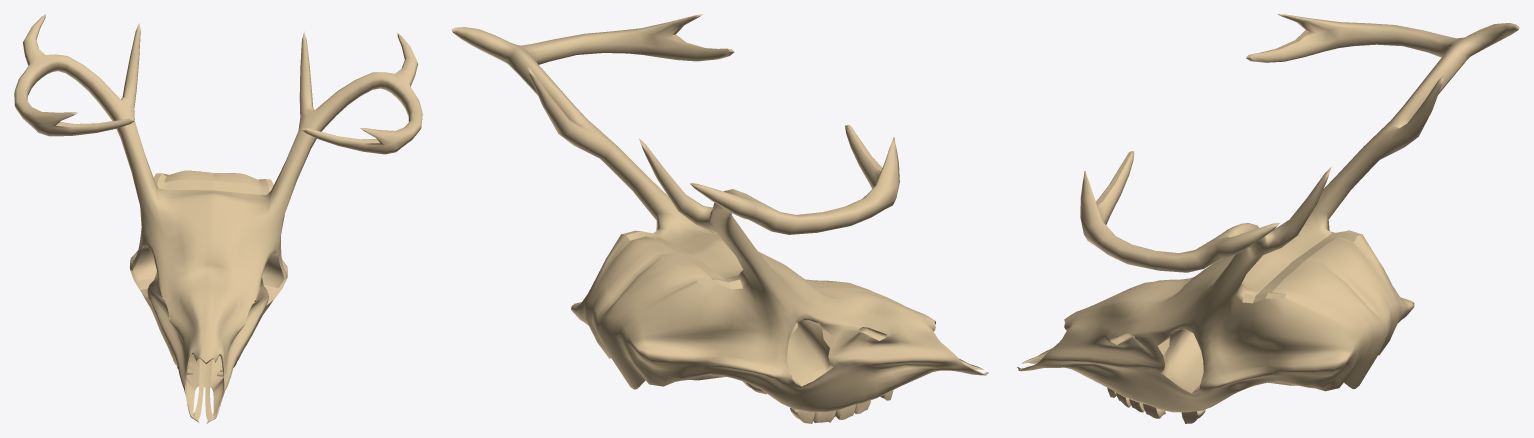
Rendered from Deer.fbx.
3 renders of one model, left to right at view 1: azimuth 30°, elevation 25°; view 2: azimuth 150°, elevation 25°; view 3: azimuth 270°, elevation 25°, orthographic. The views are drawn at different scales.
Parts seen in each view (by area): view 1: Deer_Skull; view 2: Deer_Skull; view 3: Deer_Skull.
Boxes of the visible parts, left/top/right/bottom form: Deer_Skull: left=14, top=14, right=422, bottom=423; Deer_Skull: left=451, top=14, right=988, bottom=423; Deer_Skull: left=1017, top=14, right=1519, bottom=423.
Bounding box in the file's own units: 33.21 × 24.43 × 31.11.
